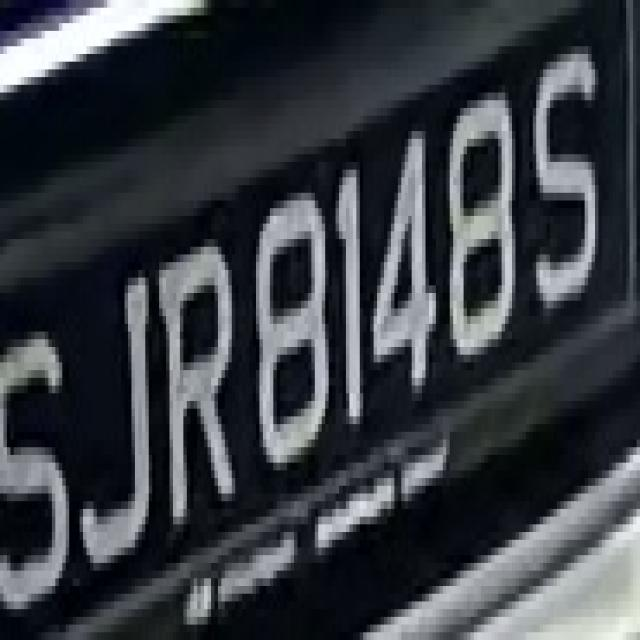1: (329, 139, 377, 455)
4: (370, 123, 446, 424)
8: (242, 193, 339, 470), (443, 77, 522, 386)
J: (76, 239, 156, 571)
R: (142, 224, 232, 516)
S: (526, 23, 605, 316)
